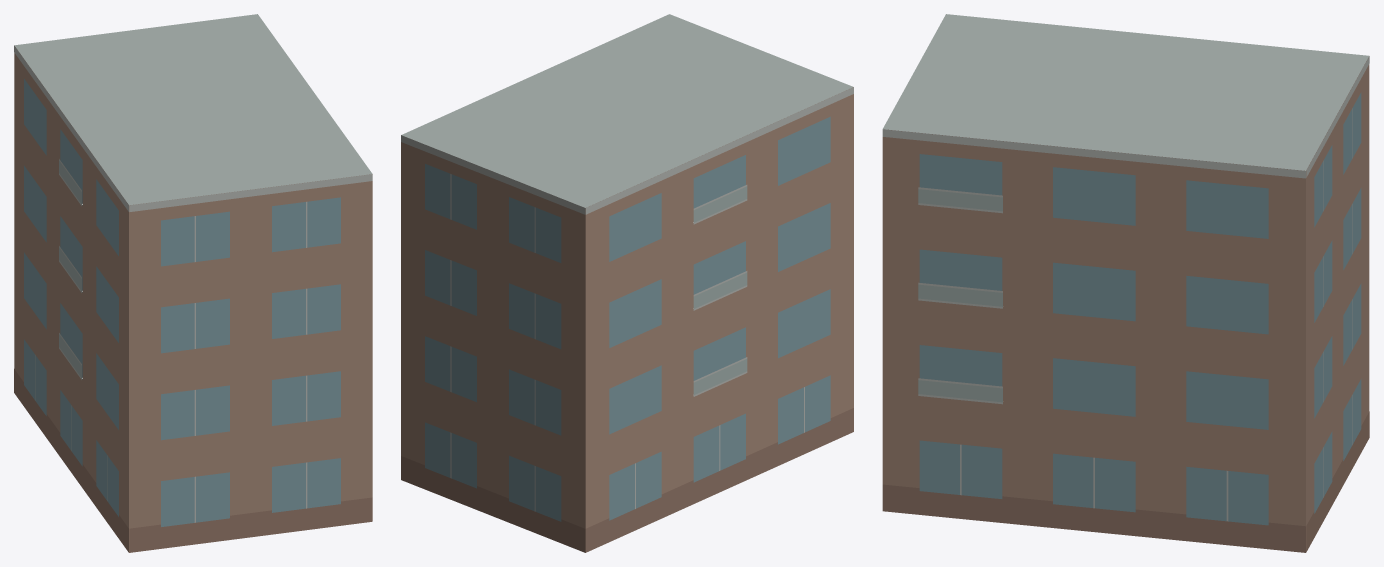
Rendered from residential-c88955cb-7b32-46be-a9cf-bbeeed140e80.glb.
3 renders of one model, left to right at view 1: azimuth 30°, elevation 25°; view 2: azimuth 150°, elevation 25°; view 3: azimuth 270°, elevation 25°, orthographic. The views are drawn at different scales.
Visible parts, largest first — view 1: residential-c88955cb-7b32-46be-a9cf-bbeeed140e80.tmp; view 2: residential-c88955cb-7b32-46be-a9cf-bbeeed140e80.tmp; view 3: residential-c88955cb-7b32-46be-a9cf-bbeeed140e80.tmp.
Part boxes in pixels (box(x1,y1,x2,y2)): residential-c88955cb-7b32-46be-a9cf-bbeeed140e80.tmp: box(14, 14, 372, 552); residential-c88955cb-7b32-46be-a9cf-bbeeed140e80.tmp: box(401, 14, 853, 552); residential-c88955cb-7b32-46be-a9cf-bbeeed140e80.tmp: box(882, 14, 1369, 552).
Size of the model in its own units: 10.75 by 12.2 by 14.1.
